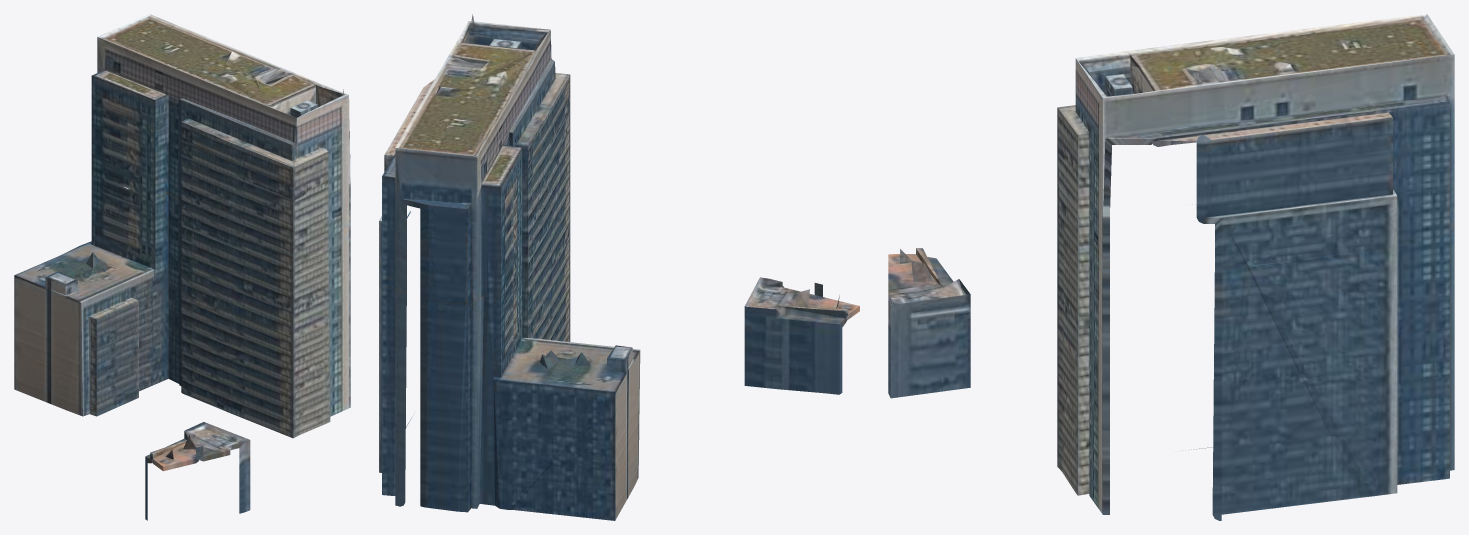
The model's file is chunk_-7_2.glb.
The picture shows the model from 3 angles, left to right: view 1: azimuth 30°, elevation 25°; view 2: azimuth 150°, elevation 25°; view 3: azimuth 270°, elevation 25°; orthographic projection. The views are drawn at different scales.
Visible parts, largest first — view 1: hero-chunk; view 2: hero-chunk; view 3: hero-chunk.
Boxes of the visible parts, x1,y1,x2,y2 form: hero-chunk: (14,14,350,520); hero-chunk: (379,14,859,520); hero-chunk: (888,14,1454,520).
Size of the model in its own units: 55.43 by 64.25 by 76.32.
Materials: 2 (2 with a texture image).
